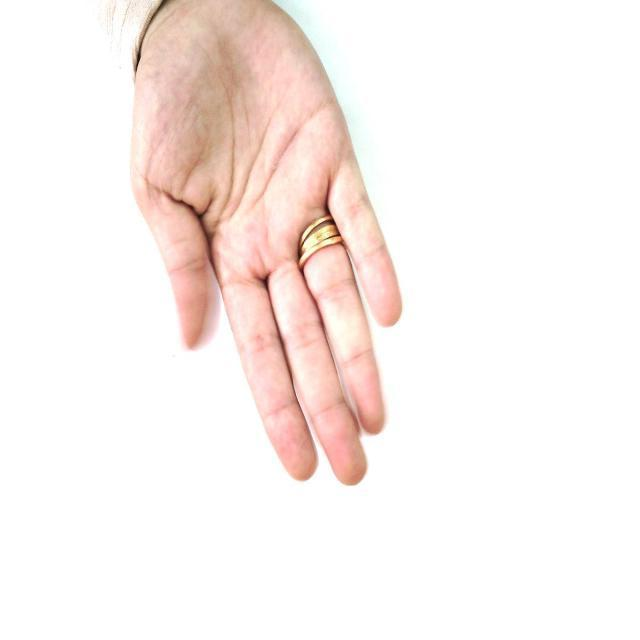hand: (129, 0, 403, 485)
